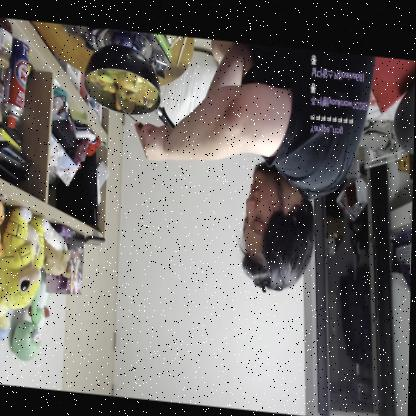streamer: (132, 31, 377, 299)
